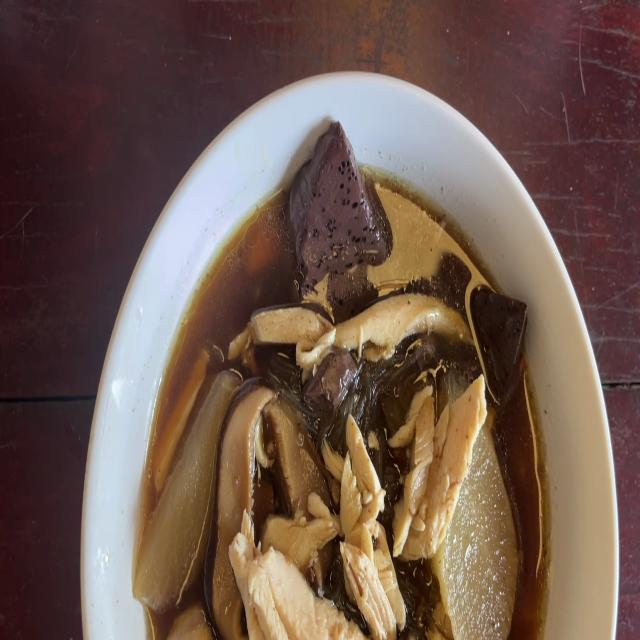boiled_chicken_blood_jelly: (287, 123, 387, 274), (473, 294, 530, 390), (312, 354, 354, 408)
chicken_shredded: (402, 384, 486, 553), (235, 520, 346, 636), (341, 426, 396, 624), (333, 289, 469, 354), (238, 312, 334, 351)
daikon_radish: (143, 372, 225, 610), (439, 445, 520, 640)
noodle: (149, 181, 541, 640)
